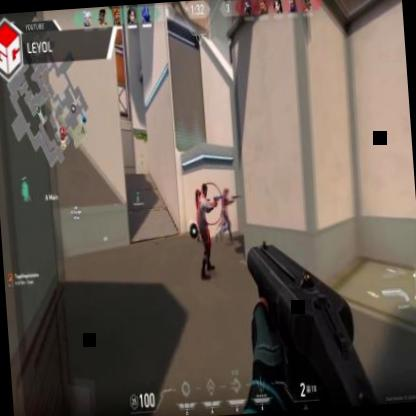enemy: (192, 182, 218, 282), (219, 184, 237, 246)
enemy_head: (202, 182, 209, 198), (225, 187, 229, 194)
